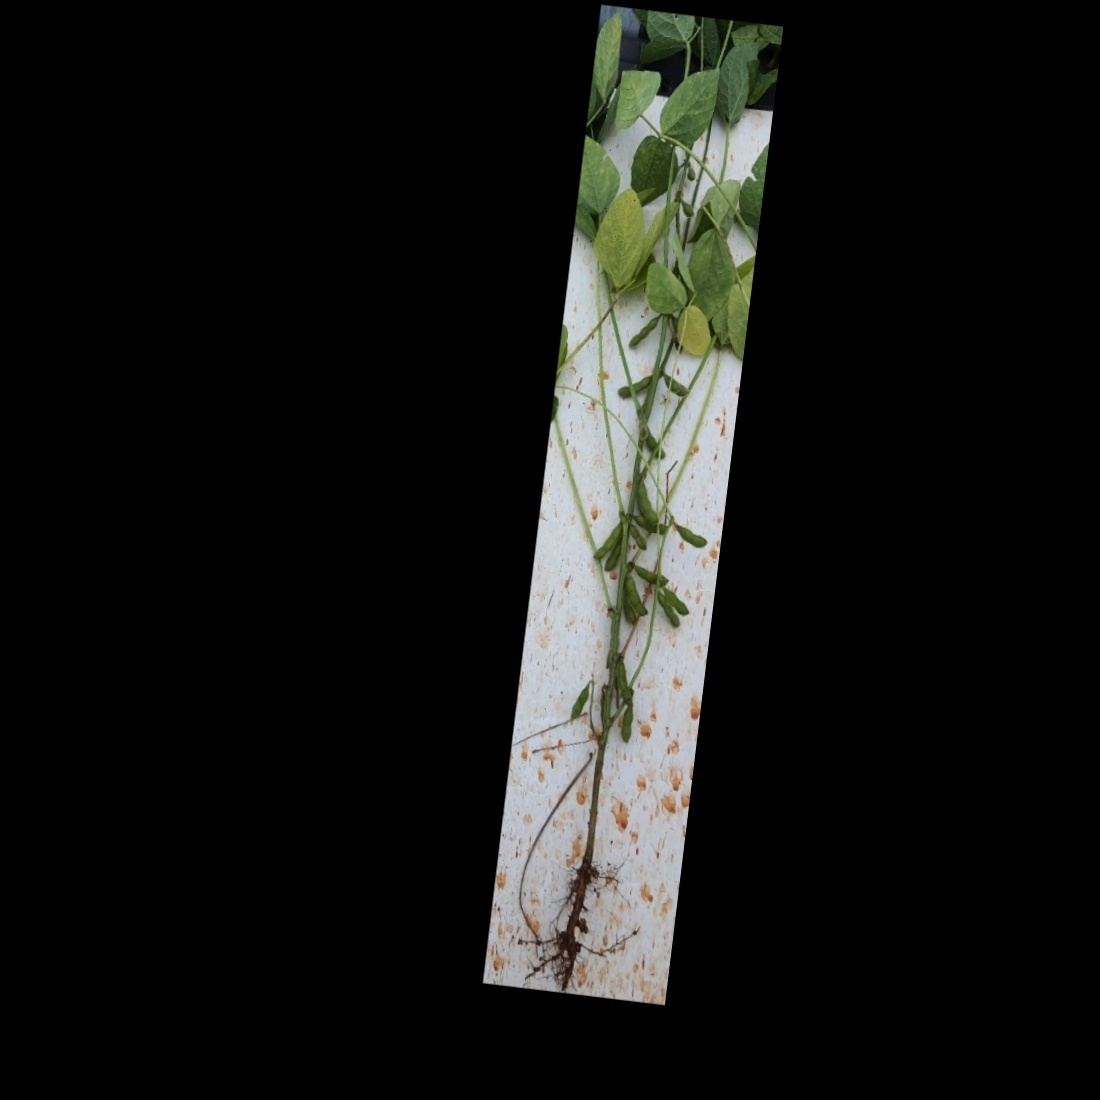pod: (625, 311, 661, 350), (628, 557, 672, 588), (613, 656, 640, 708), (669, 517, 710, 549), (567, 678, 593, 728), (640, 422, 670, 461), (616, 370, 656, 399), (659, 370, 693, 398), (617, 699, 636, 749), (625, 525, 652, 555), (603, 536, 624, 574)
soy: (501, 71, 763, 974)
